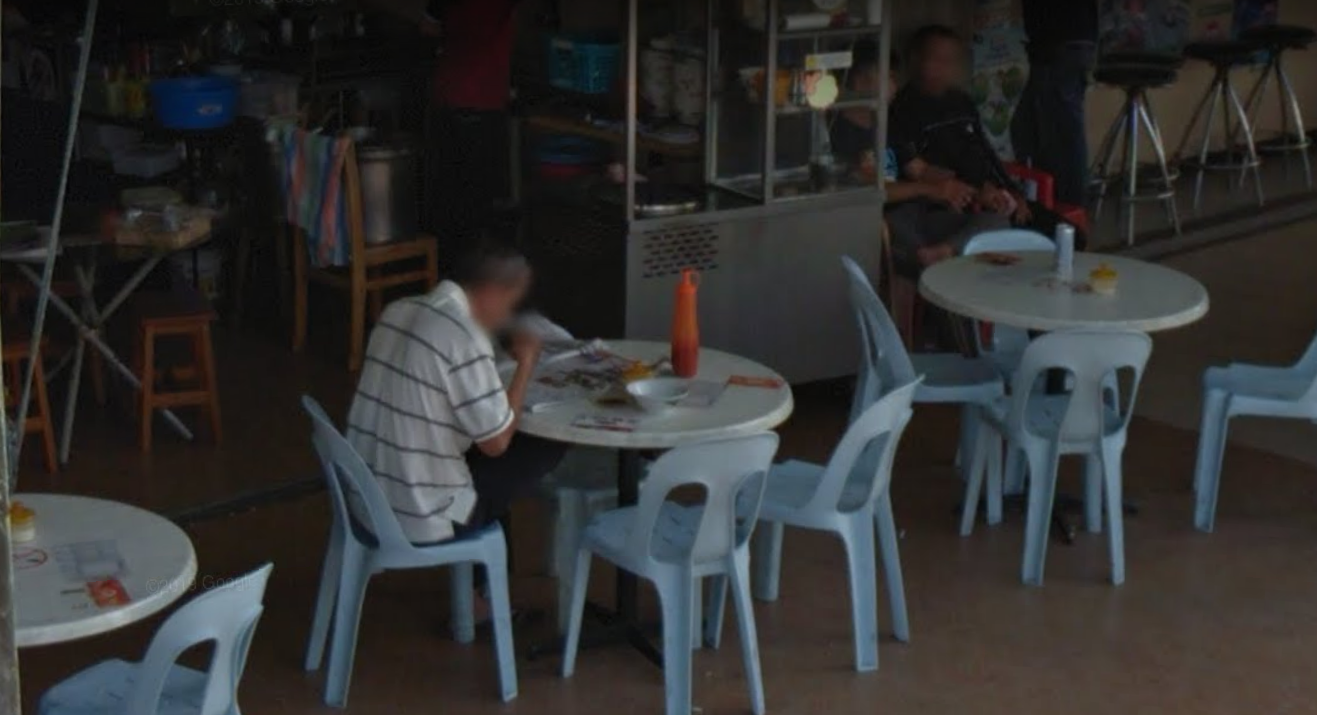sit: (352, 226, 547, 600)
